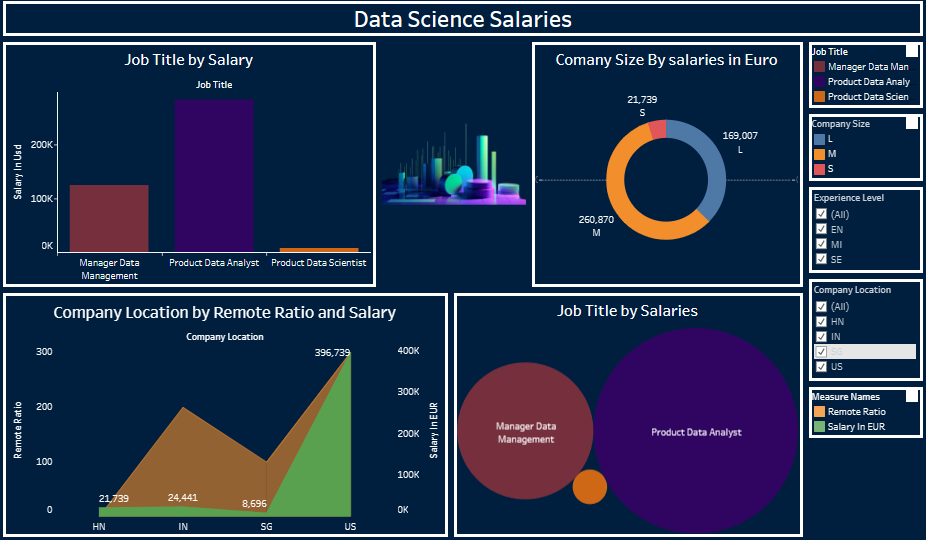

Layout of this report page (visuals, bound fields, positions):
{"tool":"tableau","page":{"name":"Dashboard 1","canvas":[1000,1000],"units":"permille","ordinal":0},"visuals":[{"type":"text","box":[7,13.3,986,73.3]},{"type":"worksheet","title":"Job Title by Salary","mark":"Automatic","rows":["salary_in_usd"],"cols":["job_title"],"box":[7,86.7,397.7,450]},{"type":"image","param":"Image/images__4_-removebg-preview.png","box":[404.7,86.7,157.2,450]},{"type":"worksheet","title":"Comany Size By salaries in Euro","mark":"Pie","rows":["Calculation_188306818972086277","Calculation_188306818972188681"],"box":[561.9,86.7,290.6,450]},{"type":"legend","title":"Job Title by Salary","param":"[federated.14jb05w1f24q8g1f4urhf1y9py0q].[none:job_title:nk]","box":[852.5,86.7,140.5,160]},{"type":"legend","title":"Comany Size By salaries in Euro","param":"[federated.14jb05w1f24q8g1f4urhf1y9py0q].[none:company_size:nk]","box":[852.5,246.7,140.5,160]},{"type":"filter","title":"Job Title by Salaries","param":"[federated.14jb05w1f24q8g1f4urhf1y9py0q].[none:experience_level:nk]","box":[852.5,406.7,140.5,196.7]},{"type":"worksheet","title":"Company Location by Remote Ratio and Salary","mark":"Area","rows":["remote_ratio","Calculation_188306818943496192"],"cols":["company_location"],"box":[7,536.7,473.2,450]},{"type":"worksheet","title":"Job Title by Salaries","mark":"Circle","box":[480.2,536.7,372.3,450]},{"type":"filter","title":"Job Title by Salaries","param":"[federated.14jb05w1f24q8g1f4urhf1y9py0q].[none:company_location:nk]","box":[852.5,603.3,140.5,228.3]},{"type":"legend","title":"Company Location by Remote Ratio and Salary","param":"[federated.14jb05w1f24q8g1f4urhf1y9py0q].[:Measure Names]","box":[852.5,831.7,140.5,126.7]}]}

Visuals, with their boxes on the dashboard's canvas, which has no fixed pixel size, in thousandths of its width and height (x1, y1, x2, y2). These are canvas units, not pixel positions in the 927x541 screenshot, which may show the page scaled, cropped or inside an application window:
text: bbox(7, 13, 993, 87)
"Job Title by Salary" worksheet: bbox(7, 87, 405, 537)
image: bbox(405, 87, 562, 537)
"Comany Size By salaries in Euro" worksheet (Pie marks): bbox(562, 87, 852, 537)
"Job Title by Salary" legend: bbox(852, 87, 993, 247)
"Comany Size By salaries in Euro" legend: bbox(852, 247, 993, 407)
"Job Title by Salaries" filter: bbox(852, 407, 993, 603)
"Company Location by Remote Ratio and Salary" worksheet (Area marks): bbox(7, 537, 480, 987)
"Job Title by Salaries" worksheet (Circle marks): bbox(480, 537, 852, 987)
"Job Title by Salaries" filter: bbox(852, 603, 993, 832)
"Company Location by Remote Ratio and Salary" legend: bbox(852, 832, 993, 958)
